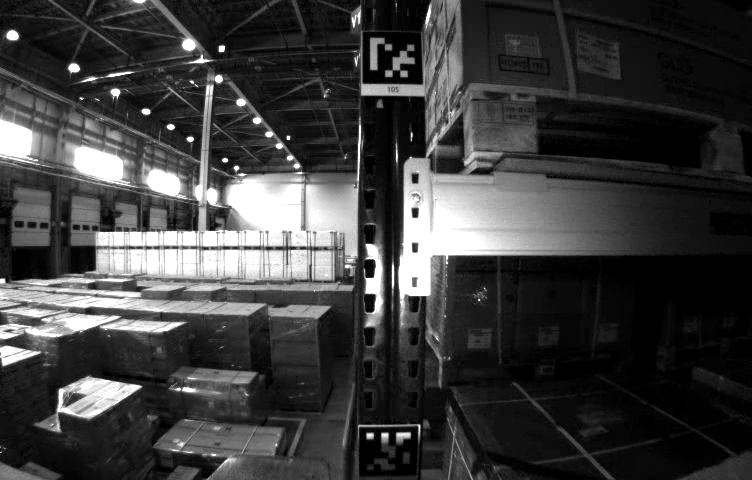True Barcode: (574, 31, 624, 80)
